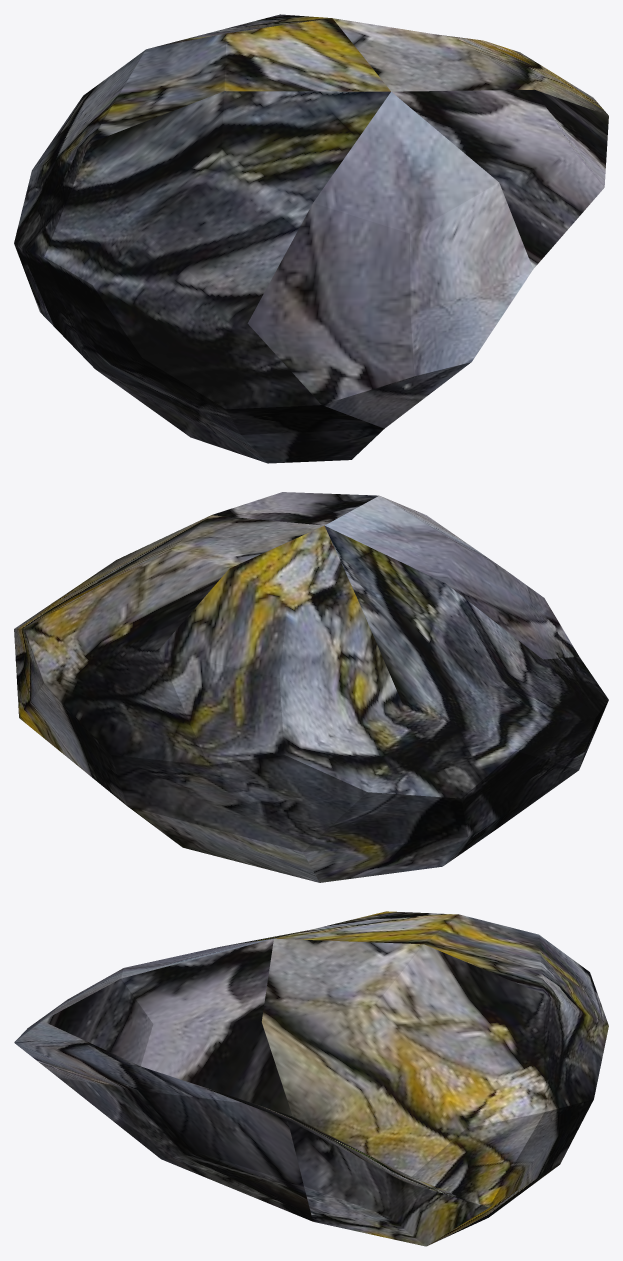
Rendered from rock2.glb.
The picture shows the model from 3 angles, top to bottom: view 1: azimuth 30°, elevation 25°; view 2: azimuth 150°, elevation 25°; view 3: azimuth 270°, elevation 25°; orthographic projection. The views are drawn at different scales.
Parts seen in each view (by area): view 1: Icosphere; view 2: Icosphere; view 3: Icosphere.
Part boxes in pixels (<box>): Icosphere: <box>14,14,608,463</box>; Icosphere: <box>14,492,608,882</box>; Icosphere: <box>14,911,608,1246</box>.
Bounding box in the file's own units: 3.12 × 1.8 × 3.14.
Materials: 1 (1 with a texture image).
